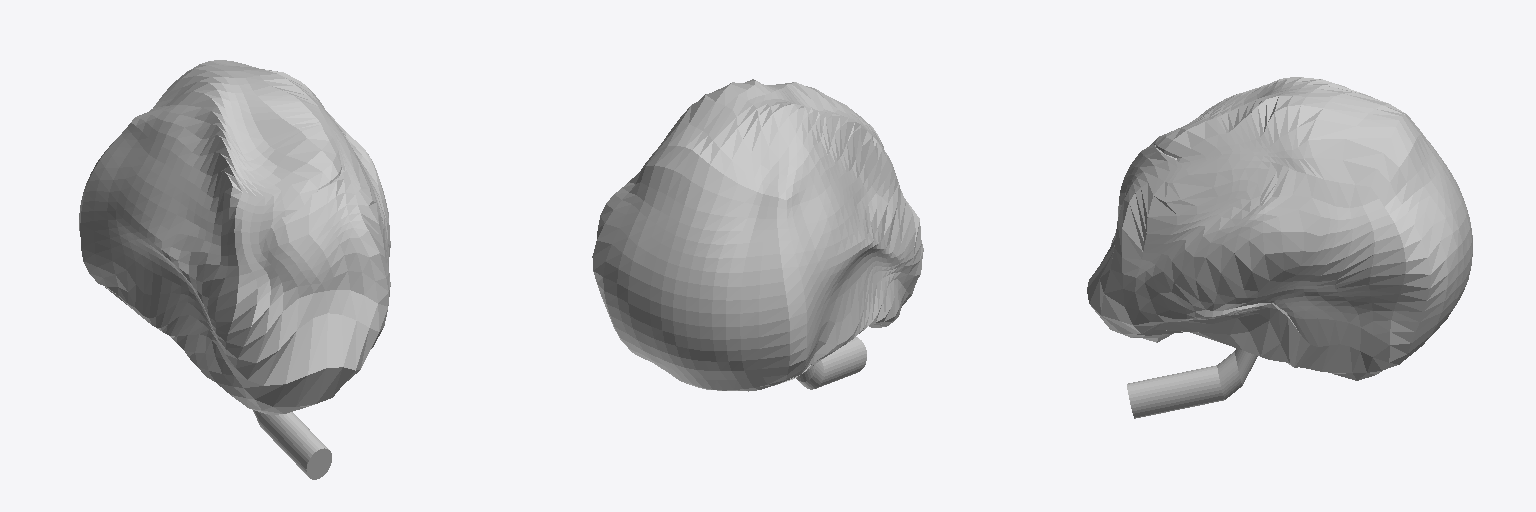
Rendered from RightLung.obj.
3 views of the same model, side by side, from view 1: azimuth 30°, elevation 25°; view 2: azimuth 150°, elevation 25°; view 3: azimuth 270°, elevation 25° (orthographic).
Parts seen in each view (by area): view 1: Mesh; view 2: Mesh; view 3: Mesh.
Boxes of the visible parts, <box> form: Mesh: <box>79,60,390,479</box>; Mesh: <box>592,79,923,391</box>; Mesh: <box>1087,77,1472,418</box>.
Size of the model in its own units: 3.19 by 4.75 by 4.96.